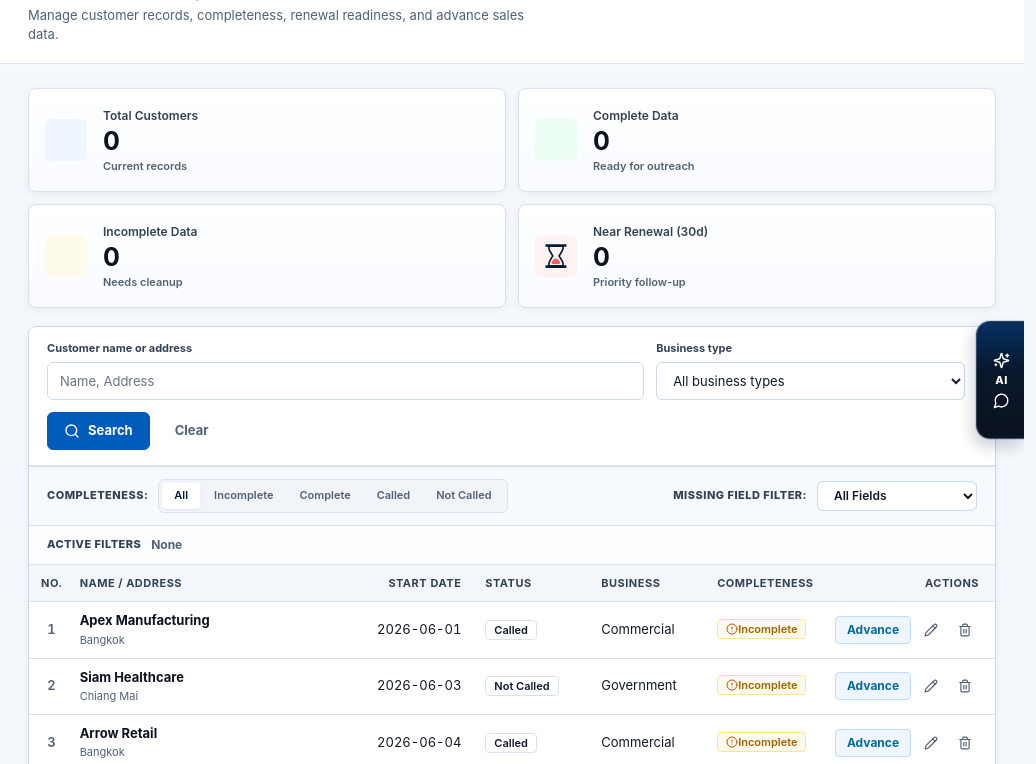
it: ATS React workspace › renders the migrated customer workspace shell and filters rows
(page scrolled)
Expected: the text "Apex Manufacturing" is shown, [80,612,210,628]
Expected: the text "Total Customers" is shown, [103,107,198,125]
In the field labelled "Customer name or address": (346, 381) [47,362,644,400], type "bangkok"
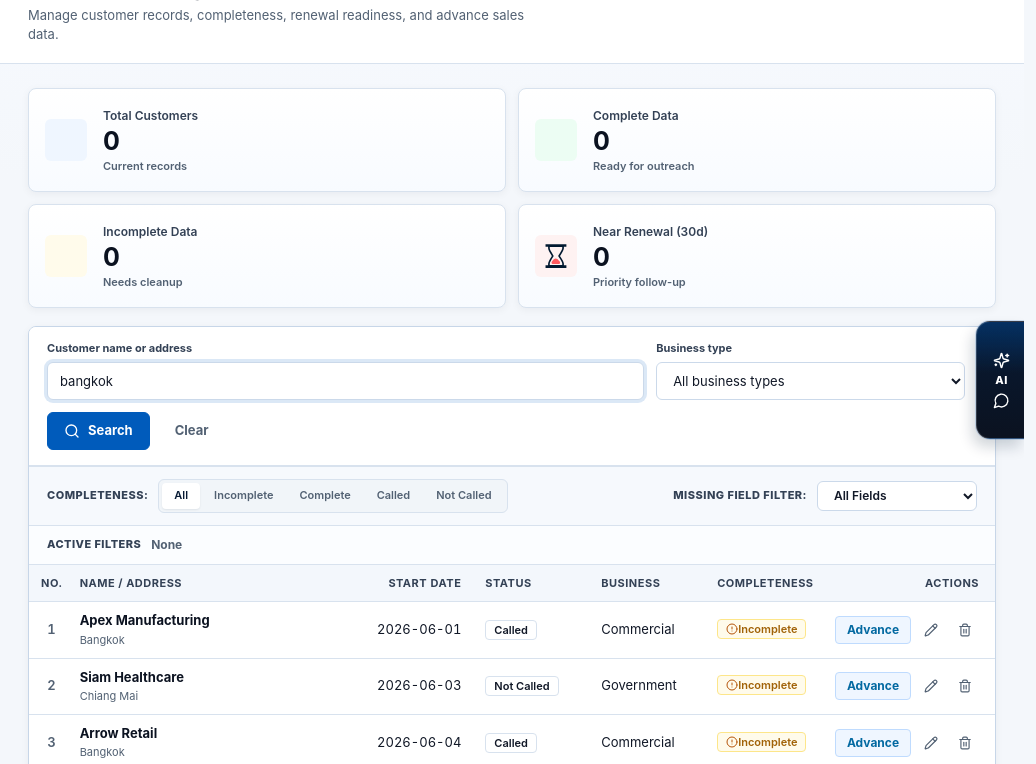
Select "Commercial" in the dropdown labelled "Business type": (811, 381) [656,362,965,400]
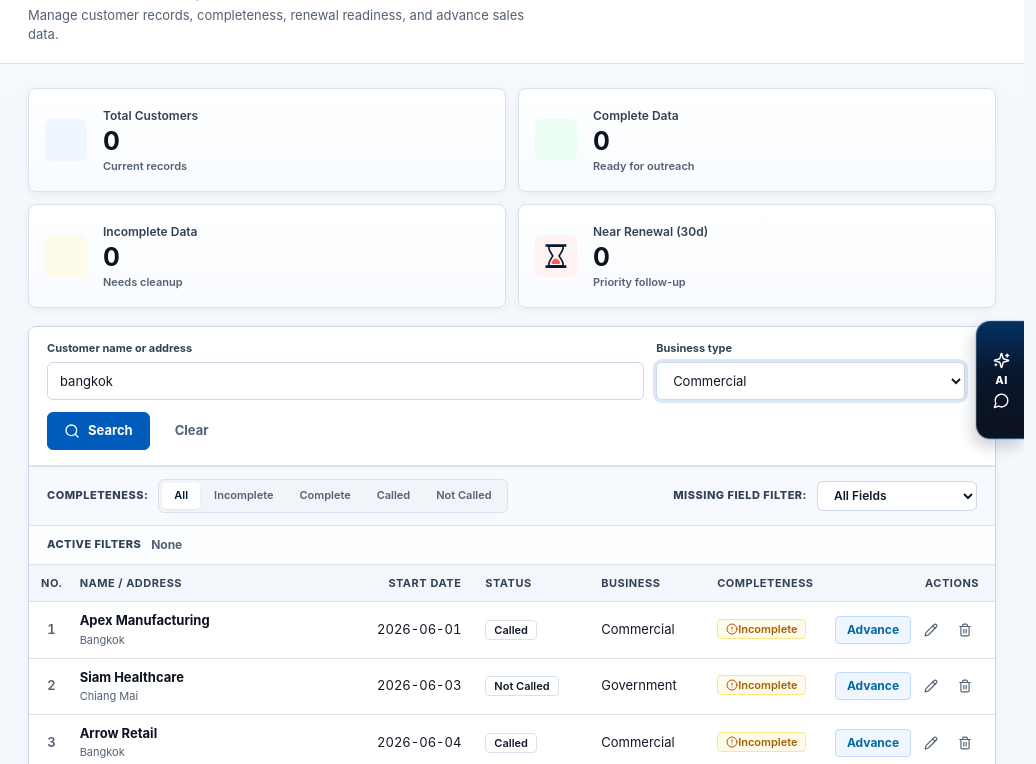
Click the button "Search": click(98, 431) [47,412,150,450]
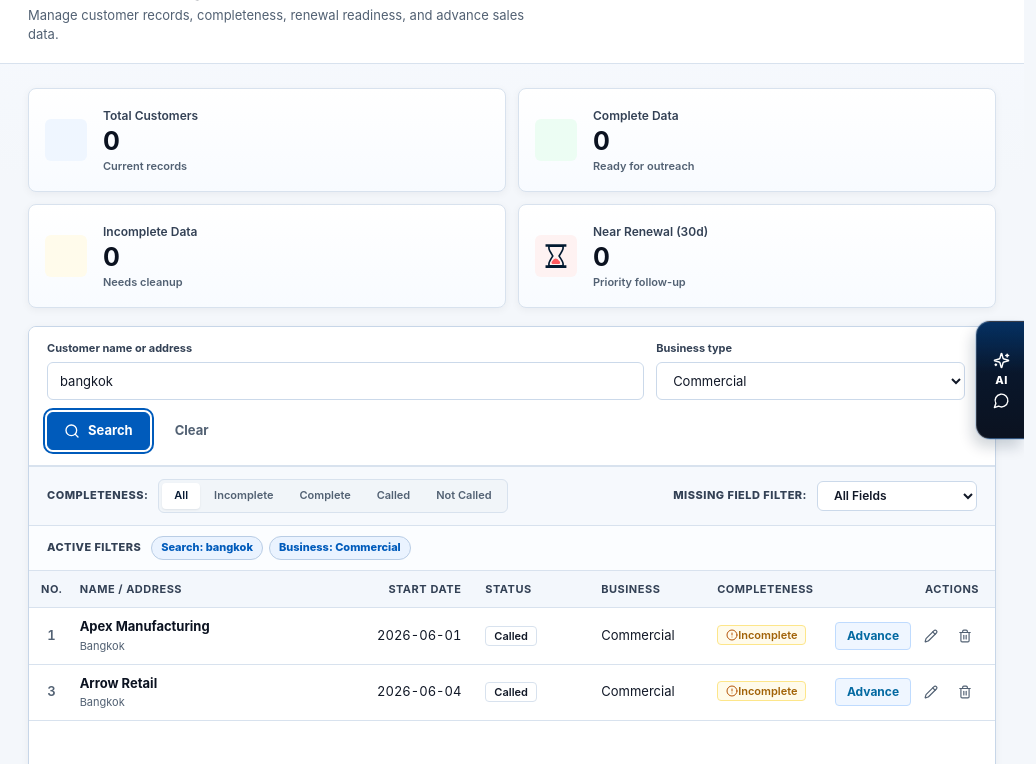
Expected: the text "Apex Manufacturing" is shown, [80,618,210,634]
Expected: the text "Siam Healthcare" is gone
